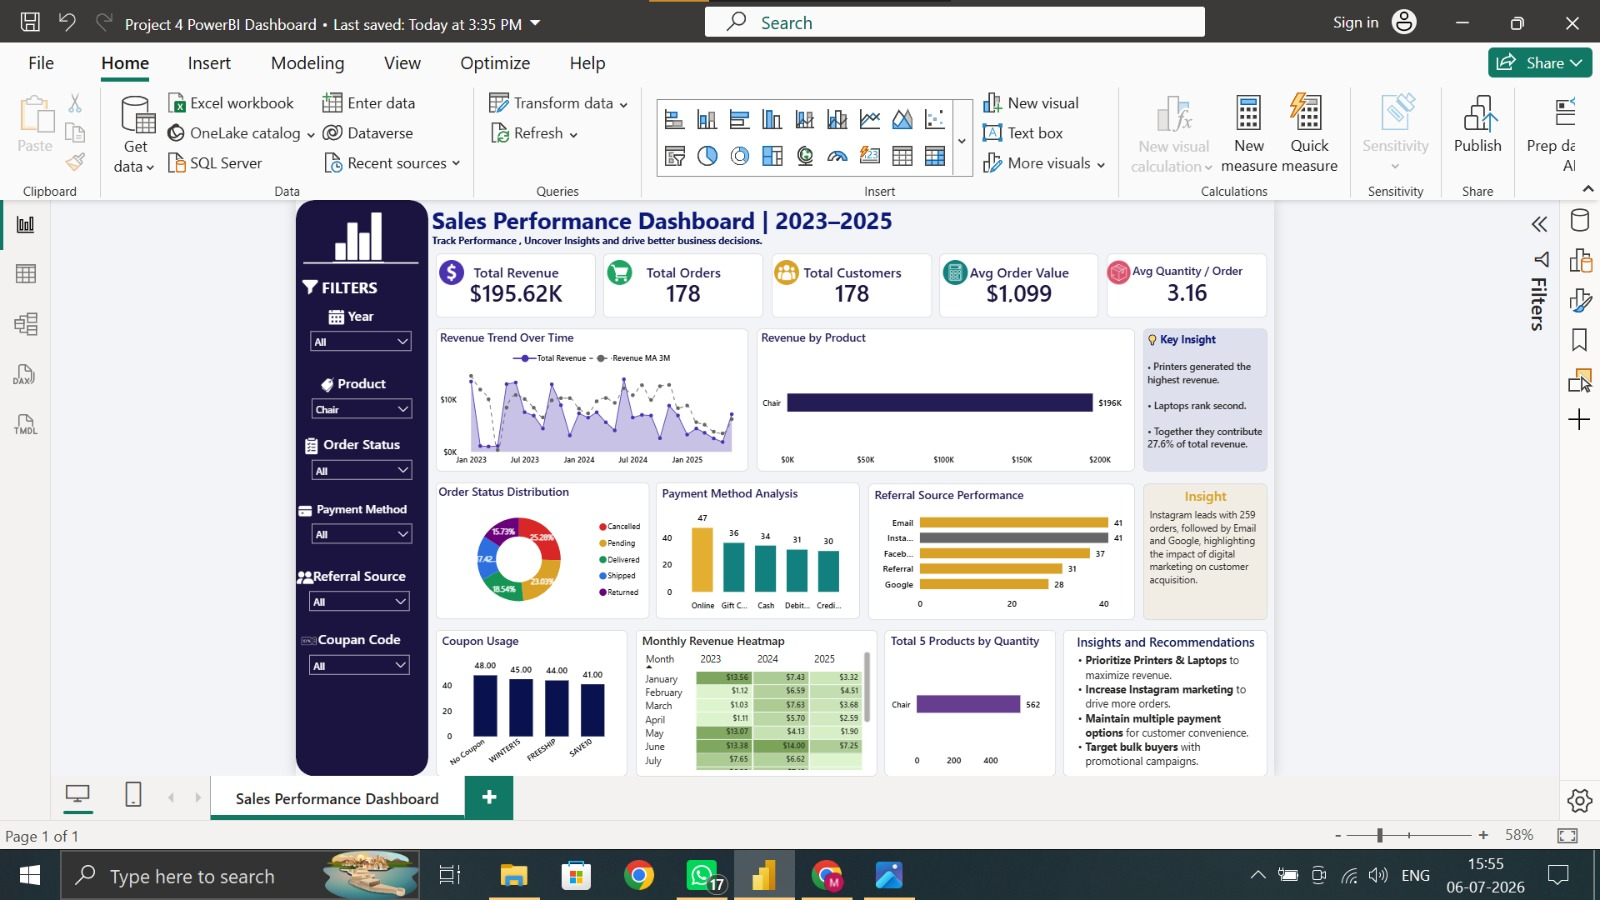

The page's visual inventory and layout, read from the dashboard file:
{"tool":"powerbi","page":{"name":"Sales Performance Dashboard","canvas":[1360,800],"ordinal":0},"visuals":[{"type":"shape","box":[0,0,184.1,800.6],"z":0},{"type":"textbox","box":[184.1,0,719,71.2],"z":1000},{"type":"textbox","box":[184.1,40.9,599.6,29.9],"z":2000},{"type":"card","title":"Total Revenue","fields":{"Values":["Measures Table.Total Revenue"]},"box":[194.5,74.7,222,88.6],"z":3000},{"type":"card","title":"Total Orders","fields":{"Values":["Measures Table.Total Orders"]},"box":[427.9,74.7,222,88.6],"z":4000},{"type":"card","title":"Avg Order Value","fields":{"Values":["Measures Table.Avg Order Value"]},"box":[895.1,74.7,220.6,88.6],"z":5000},{"type":"card","title":"Total Customers","fields":{"Values":["Measures Table.Total Customers"]},"box":[661.4,74.7,222.3,88.6],"z":6000},{"type":"card","title":"Avg Quantity / Order","fields":{"Values":["Measures Table.Avg Quantity per Order"]},"box":[1127.1,74.7,222.3,88.6],"z":7000},{"type":"areaChart","title":"Revenue Trend Over Time","fields":{"Category":["Calendar.Year-Month"],"Y":["Measures Table.Total Revenue"],"Y2":["Measures Table.Revenue MA 3M"]},"box":[194.5,178.9,434.2,198],"z":8000},{"type":"clusteredBarChart","title":"Revenue by Product","fields":{"Category":["Orders.Product"],"Y":["Measures Table.Total Revenue"]},"box":[640.8,178.9,524.5,198],"z":9000},{"type":"donutChart","title":"Order Status  Distribution","fields":{"Category":["Orders.OrderStatus"],"Y":["Measures Table.Total Orders"]},"box":[194.5,392.5,297,189.3],"z":10000},{"type":"clusteredColumnChart","title":"Coupon Usage","fields":{"Category":["Orders.CouponCode"],"Y":["Measures Table.Total Orders"]},"box":[194.5,597.4,265.7,203.2],"z":11000},{"type":"columnChart","title":"Payment Method Analysis","fields":{"Category":["Orders.PaymentMethod"],"Y":["Measures Table.Total Orders"]},"box":[500.2,392.5,283.1,189.3],"z":12000},{"type":"barChart","title":"Referral Source Performance","fields":{"Category":["Orders.ReferralSource"],"Y":["Measures Table.Total Orders"]},"box":[795.4,393.4,369.7,189.2],"z":13000},{"type":"pivotTable","title":"Monthly Revenue Heatmap","fields":{"Columns":["Calendar.Year"],"Rows":["Calendar.Month"],"Values":["Measures Table.Revenue (K)"]},"box":[472.4,597.4,335.2,203.2],"z":14000},{"type":"barChart","title":"Total 5 Products by Quantity","fields":{"Category":["Orders.Product"],"Y":["Measures Table.Total Quantity"]},"box":[818,597.4,237.9,203.2],"z":15000},{"type":"textbox","title":"Insight","box":[1177.5,178.9,171.9,198],"z":16000},{"type":"textbox","title":"Insight","box":[1178,393.4,172,189.2],"z":17000},{"type":"textbox","title":"Insights and Recommendations ","box":[1066.3,597.4,283.1,203.2],"z":18000},{"type":"shape","box":[10.7,74.7,160,25.6],"z":19000},{"type":"textbox","box":[32,100.3,140.8,46.9],"z":20000},{"type":"slicer","title":"Year","fields":{"Values":["Calendar.Year"]},"box":[10.7,147.2,160,72],"z":21000},{"type":"slicer","title":"Product","fields":{"Values":["Orders.Product"]},"box":[12.9,240.8,159.1,73.1],"z":22000},{"type":"slicer","title":"Order Status","fields":{"Values":["Orders.OrderStatus"]},"box":[12.9,326.7,159.1,73.1],"z":23000},{"type":"slicer","title":"Payment Method","fields":{"Values":["Orders.PaymentMethod"]},"box":[12.9,419.2,159.1,68.8],"z":24000},{"type":"slicer","title":"Referral Source","fields":{"Values":["Orders.ReferralSource"]},"box":[8.6,509.5,159.1,73.1],"z":25000},{"type":"slicer","title":"Coupan  Code","fields":{"Values":["Orders.CouponCode"]},"box":[8.6,597.6,159.1,73.1],"z":26000},{"type":"image","box":[6.9,99.5,25.7,42.9],"z":27000},{"type":"image","box":[0,17.2,174.1,70.9],"z":28000},{"type":"image","box":[45.2,142.4,22.6,41.7],"z":29000},{"type":"image","box":[1.7,411.6,22.6,41.7],"z":30000},{"type":"image","box":[10.4,321.3,22.6,41.7],"z":31000},{"type":"image","box":[33,236.2,22.6,41.7],"z":32000},{"type":"image","box":[0,503.6,26,41.7],"z":33000},{"type":"image","box":[6.9,592.2,22.6,41.7],"z":34000},{"type":"image","box":[194.5,83.4,43.4,34.7],"z":35000},{"type":"image","box":[894.4,83.4,43.4,34.7],"z":36000},{"type":"image","box":[659.9,83.4,43.4,34.7],"z":37000},{"type":"image","box":[427.2,83.4,45.2,34.7],"z":38000},{"type":"image","box":[1127.1,83.4,33,34.7],"z":39000}]}

Visuals, with their boxes on the page's 1360x800 design canvas (x1, y1, x2, y2). These are canvas units, not pixel positions in the 1600x900 screenshot, which may show the page scaled, cropped or inside an application window:
shape: Rect(0, 0, 184, 801)
textbox: Rect(184, 0, 903, 71)
textbox: Rect(184, 41, 784, 71)
"Total Revenue" card: Rect(194, 75, 416, 163)
"Total Orders" card: Rect(428, 75, 650, 163)
"Avg Order Value" card: Rect(895, 75, 1116, 163)
"Total Customers" card: Rect(661, 75, 884, 163)
"Avg Quantity / Order" card: Rect(1127, 75, 1349, 163)
"Revenue Trend Over Time" areaChart: Rect(194, 179, 629, 377)
"Revenue by Product" clusteredBarChart: Rect(641, 179, 1165, 377)
"Order Status  Distribution" donutChart: Rect(194, 392, 492, 582)
"Coupon Usage" clusteredColumnChart: Rect(194, 597, 460, 801)
"Payment Method Analysis" columnChart: Rect(500, 392, 783, 582)
"Referral Source Performance" barChart: Rect(795, 393, 1165, 583)
"Monthly Revenue Heatmap" pivotTable: Rect(472, 597, 808, 801)
"Total 5 Products by Quantity" barChart: Rect(818, 597, 1056, 801)
"Insight" textbox: Rect(1178, 179, 1349, 377)
"Insight" textbox: Rect(1178, 393, 1350, 583)
"Insights and Recommendations " textbox: Rect(1066, 597, 1349, 801)
shape: Rect(11, 75, 171, 100)
textbox: Rect(32, 100, 173, 147)
"Year" slicer: Rect(11, 147, 171, 219)
"Product" slicer: Rect(13, 241, 172, 314)
"Order Status" slicer: Rect(13, 327, 172, 400)
"Payment Method" slicer: Rect(13, 419, 172, 488)
"Referral Source" slicer: Rect(9, 510, 168, 583)
"Coupan  Code" slicer: Rect(9, 598, 168, 671)
image: Rect(7, 100, 33, 142)
image: Rect(0, 17, 174, 88)
image: Rect(45, 142, 68, 184)
image: Rect(2, 412, 24, 453)
image: Rect(10, 321, 33, 363)
image: Rect(33, 236, 56, 278)
image: Rect(0, 504, 26, 545)
image: Rect(7, 592, 30, 634)
image: Rect(194, 83, 238, 118)
image: Rect(894, 83, 938, 118)
image: Rect(660, 83, 703, 118)
image: Rect(427, 83, 472, 118)
image: Rect(1127, 83, 1160, 118)
